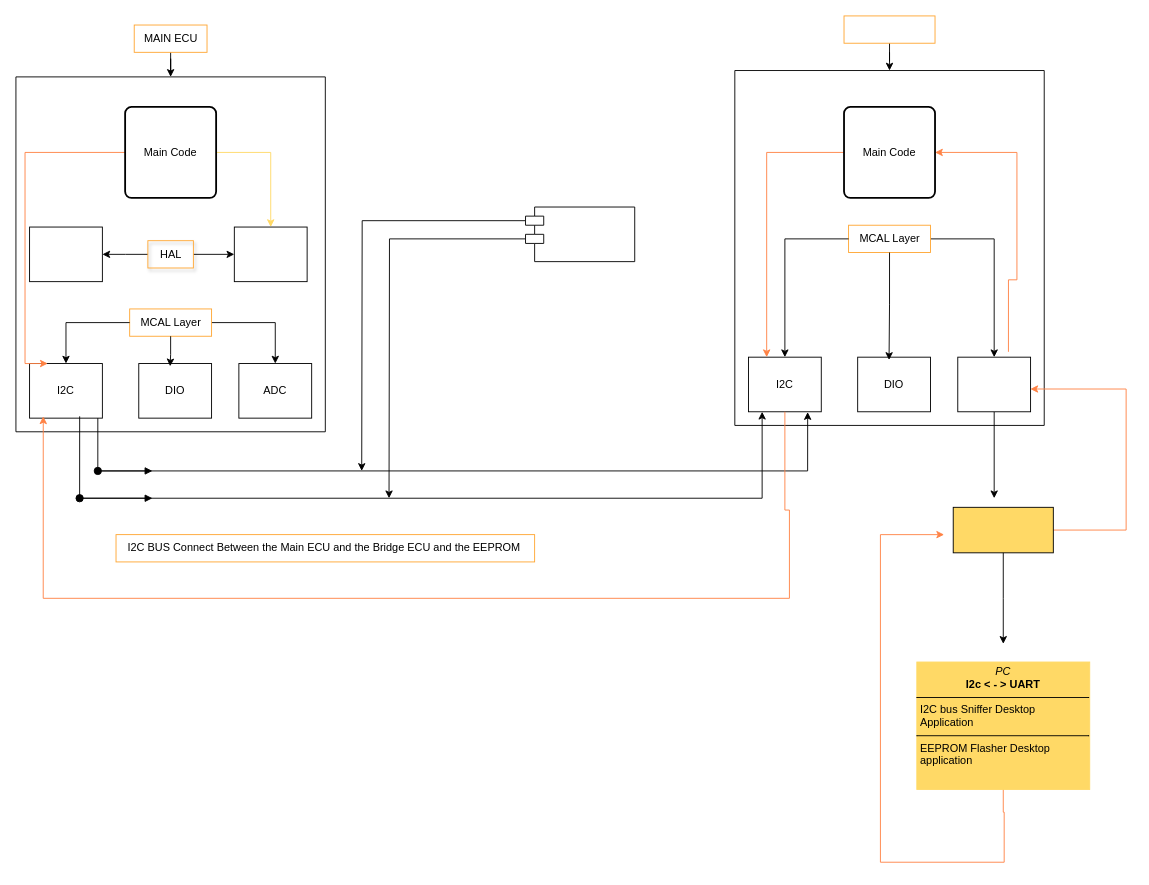
Some shapes in this 1149 by 885 pixel diagram are drawn without their labels. Each missing label, with the centre of its shape:
"BRIDGE ECU" belongs at (x=889, y=29).
"Buttons" belongs at (x=65, y=254).
"EEPROM" belongs at (x=580, y=234).
"Sensors" belongs at (x=270, y=254).
"UART" belongs at (x=994, y=384).
"USB-TTL" belongs at (x=1002, y=529).
